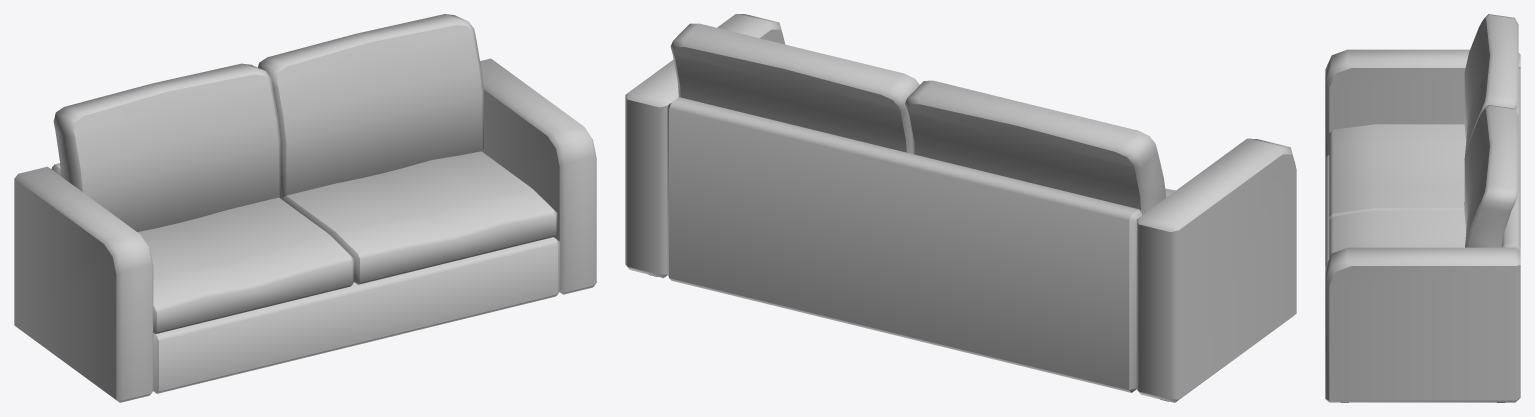
The model's file is sofa_1_1.fbx.
3 renders of one model, left to right at view 1: azimuth 30°, elevation 25°; view 2: azimuth 150°, elevation 25°; view 3: azimuth 270°, elevation 25°, orthographic. The views are drawn at different scales.
Parts seen in each view (by area): view 1: sofa_1_1; view 2: sofa_1_1; view 3: sofa_1_1.
Boxes of the visible parts, x1,y1,x2,y2 form: sofa_1_1: (14, 14, 596, 402); sofa_1_1: (625, 14, 1296, 402); sofa_1_1: (1325, 14, 1520, 402).
Size of the model in its own units: 2.6 by 1 by 1.15.
